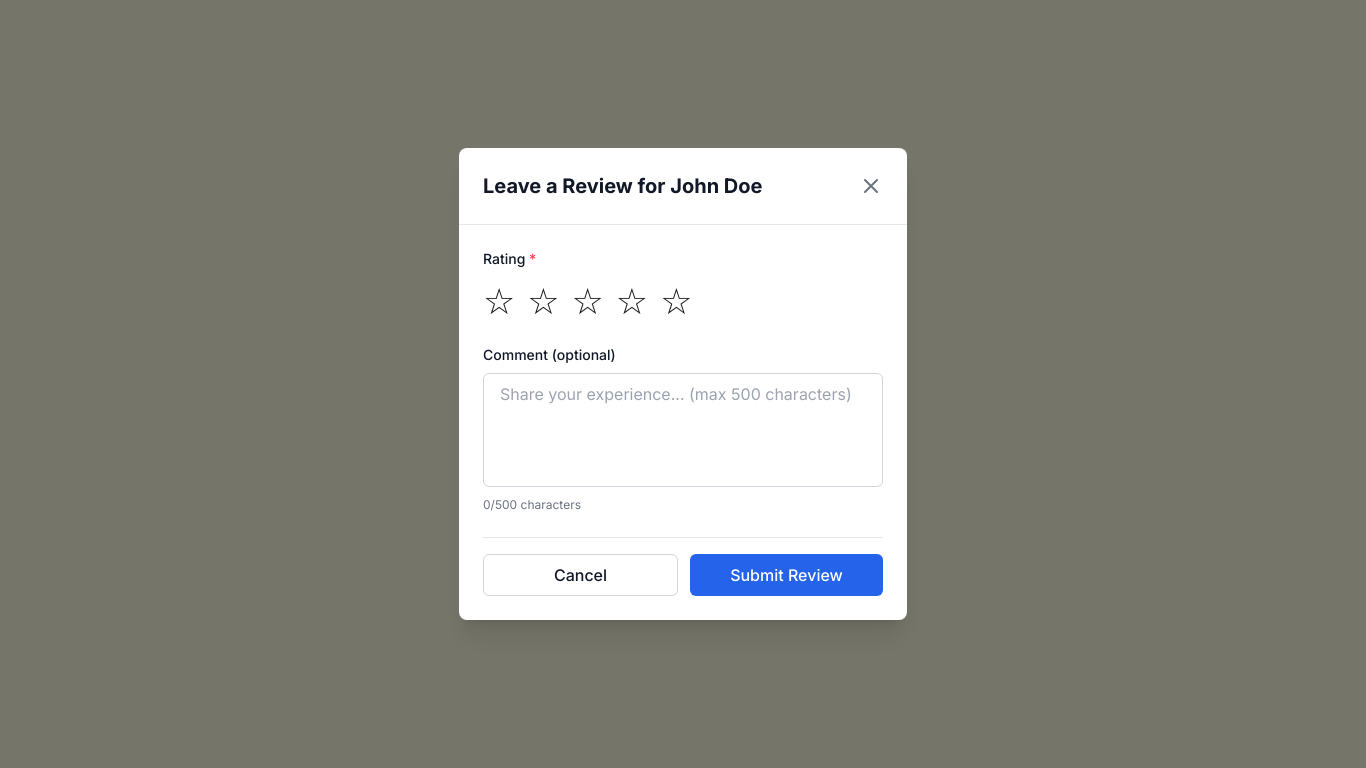
Test case: LeaveReviewModal › submission › shows duplicate review error on unique constraint violation
Click the button named "Rate 3 stars": (588, 301) [572,281,604,321]
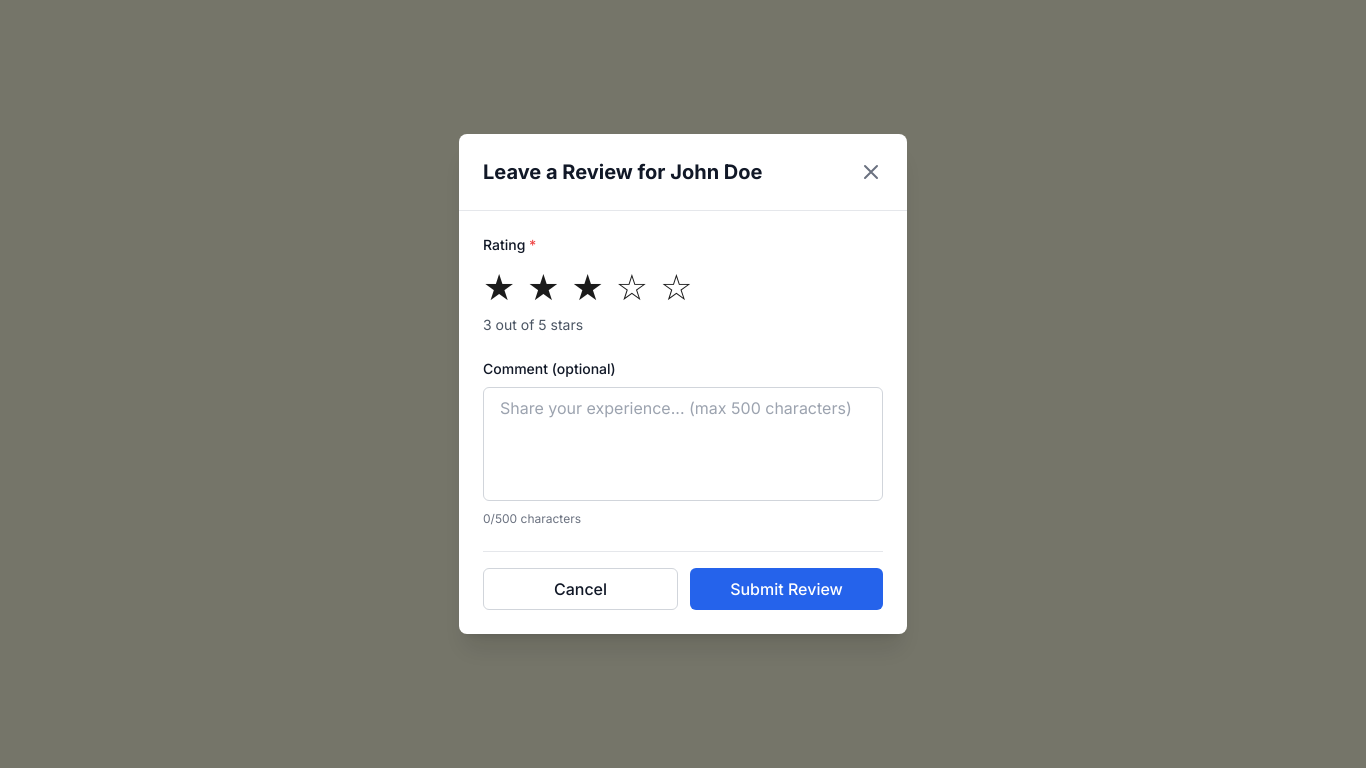
Click the button "Submit Review": (786, 589) [690,568,883,610]
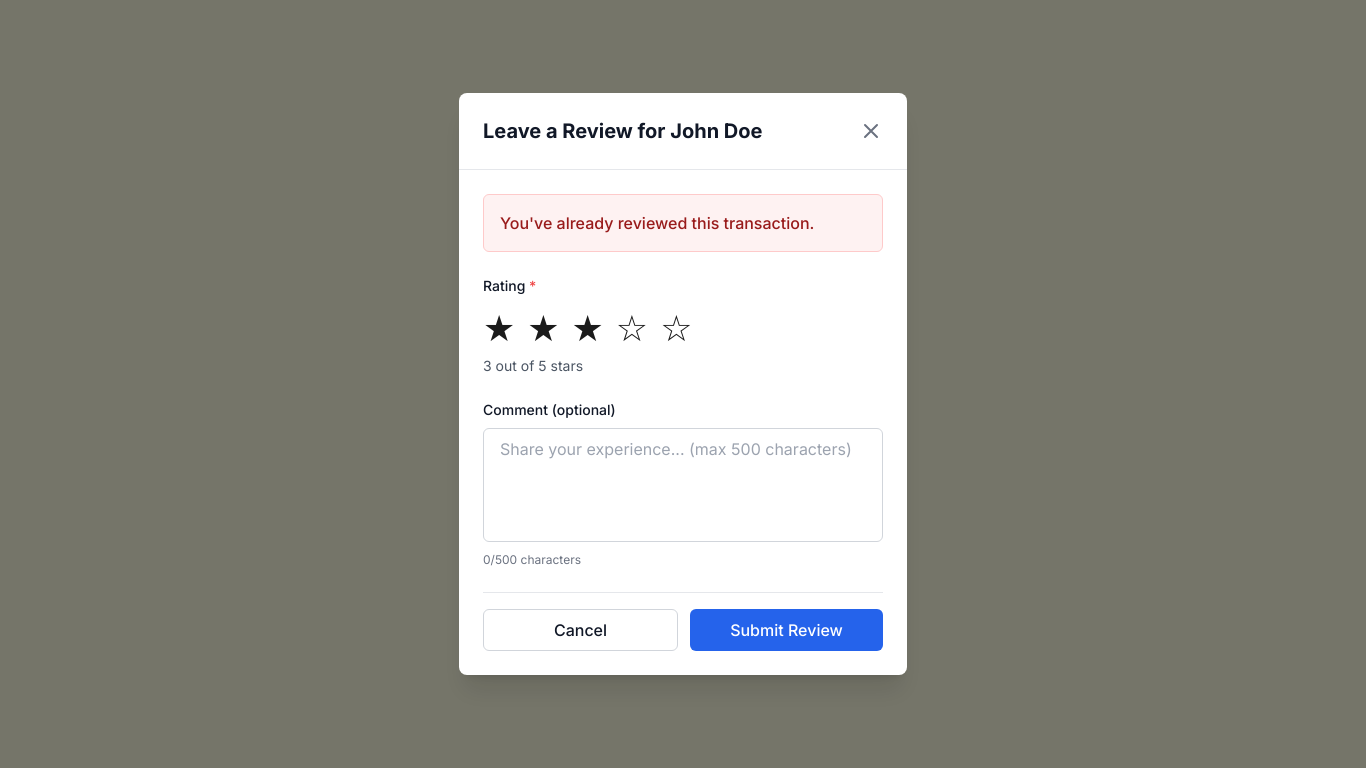
Expected: the text "You've already reviewed this transaction." is shown, [500,211,866,235]
